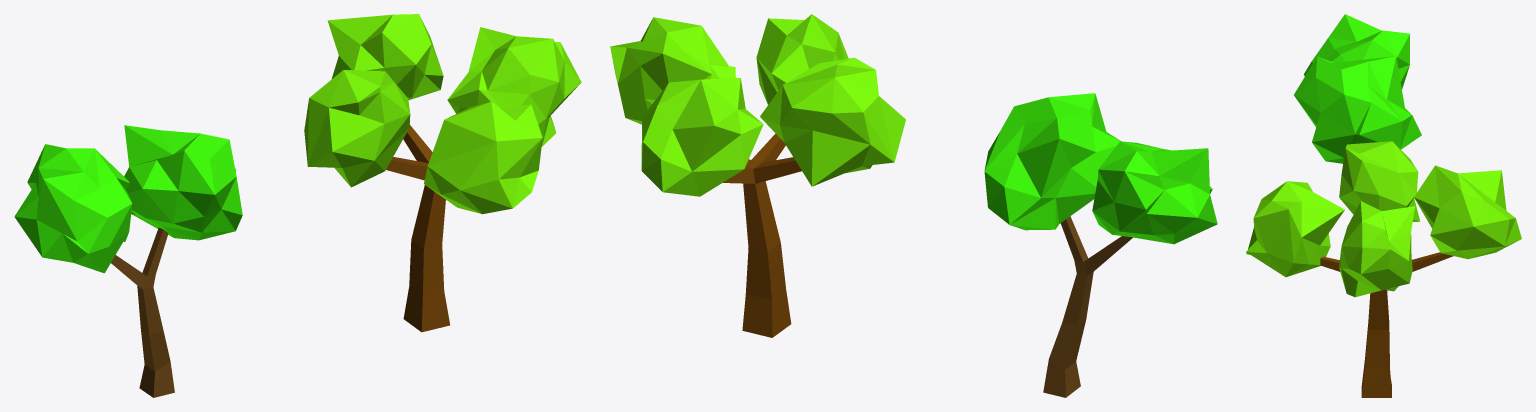
Rendered from Cartoon-low-poly-trees.obj.
3 views of the same model, side by side, from view 1: azimuth 30°, elevation 25°; view 2: azimuth 150°, elevation 25°; view 3: azimuth 270°, elevation 25° (orthographic). The views are drawn at different scales.
Parts seen in each view (by area): view 1: Tree_2, Tree_1; view 2: Tree_2, Tree_1; view 3: Tree_2, Tree_1.
Boxes of the visible parts, left/top/right/bottom form: Tree_2: left=304, top=14, right=581, bottom=332; Tree_1: left=14, top=125, right=242, bottom=397; Tree_2: left=610, top=14, right=905, bottom=337; Tree_1: left=984, top=93, right=1217, bottom=397; Tree_2: left=1246, top=141, right=1521, bottom=397; Tree_1: left=1294, top=14, right=1421, bottom=163.
Size of the model in its own units: 70.28 by 32.38 by 36.04.
